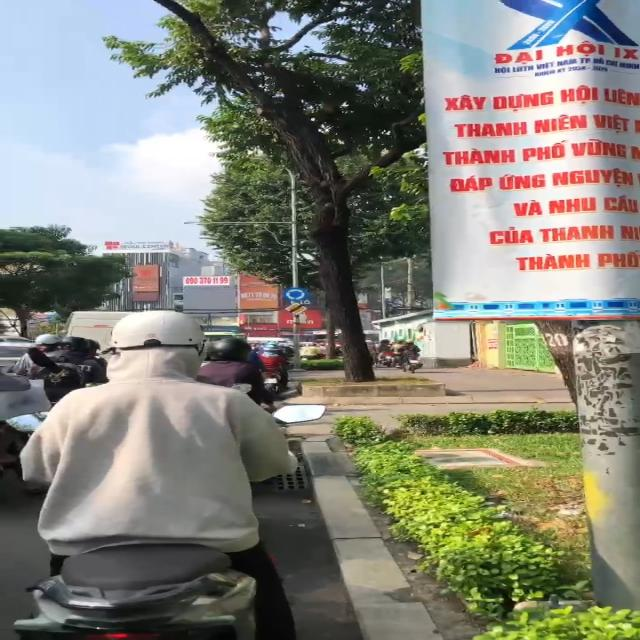Bien bao noi giao nhau chay theo vong xuyen: (280, 286, 310, 304)
